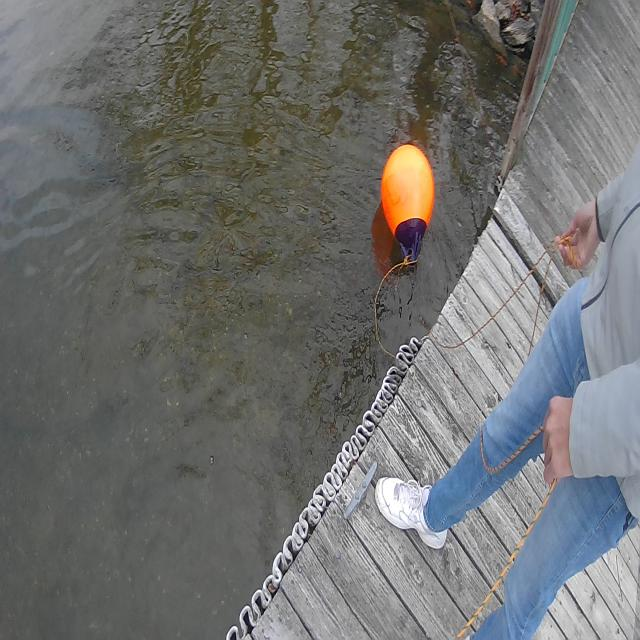Buoy: (379, 140, 437, 268)
